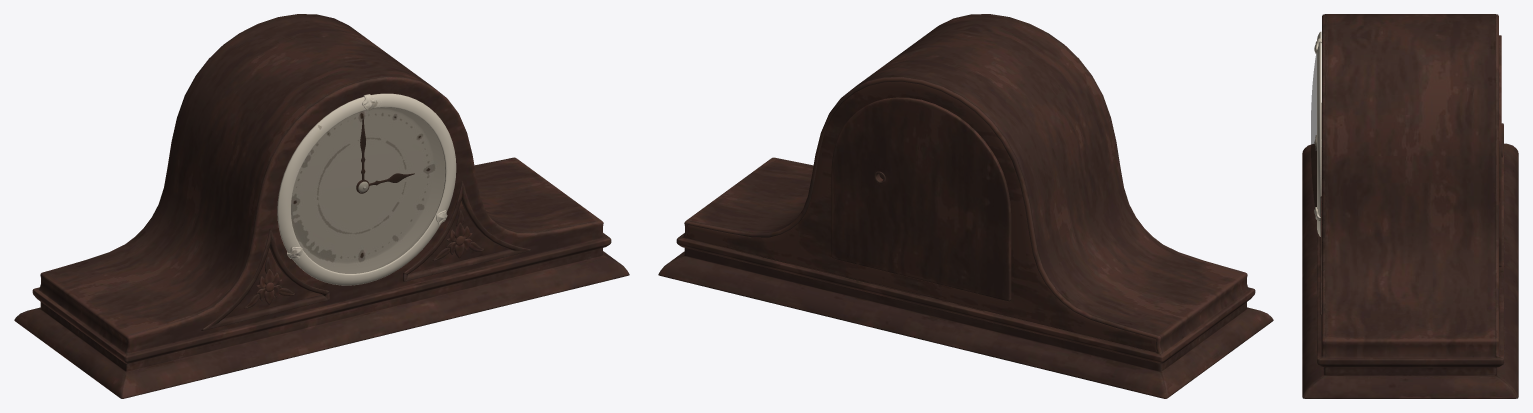
The picture shows the model from 3 angles, left to right: view 1: azimuth 30°, elevation 25°; view 2: azimuth 150°, elevation 25°; view 3: azimuth 270°, elevation 25°; orthographic projection.
Visible parts, largest first — view 1: mantel_clock_01, mantel_clock_01_glass; view 2: mantel_clock_01; view 3: mantel_clock_01, mantel_clock_01_glass.
Part boxes in pixels (left/top/right/bottom): mantel_clock_01: left=14, top=14, right=629, bottom=398; mantel_clock_01_glass: left=291, top=107, right=445, bottom=273; mantel_clock_01: left=658, top=14, right=1273, bottom=398; mantel_clock_01: left=1302, top=14, right=1518, bottom=398; mantel_clock_01_glass: left=1311, top=53, right=1316, bottom=207.
Size of the model in its own units: 0.3423 by 0.1605 by 0.1262.
2 materials, 2 textured.
